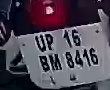1: (80, 47, 91, 68), (62, 32, 74, 48)
4: (73, 48, 85, 69)
6: (70, 29, 83, 46), (89, 47, 100, 67)
8: (64, 51, 74, 69)
B: (38, 54, 50, 73)
M: (48, 54, 63, 72)
P: (44, 33, 55, 52)
U: (34, 35, 47, 53)
